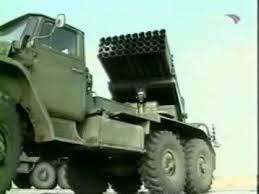MIL_SAM_TEL: (0, 11, 216, 194)
